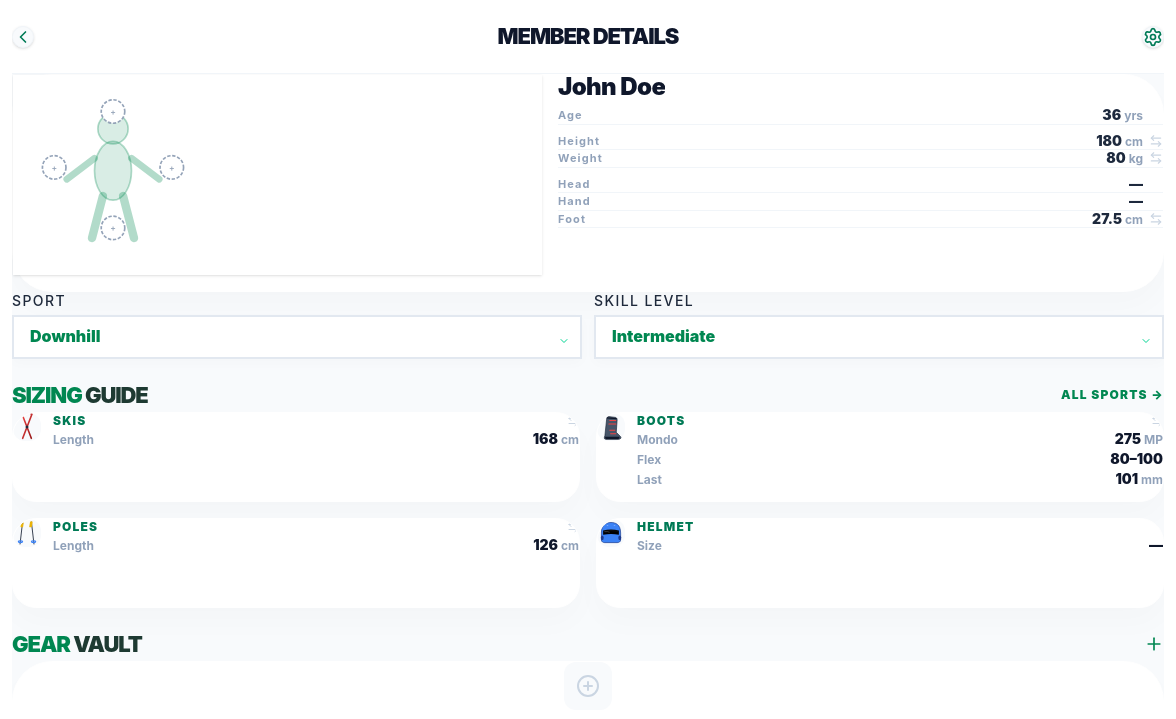
MemberDetail › unit toggles › toggles height back to cm on second click
Click the button with aria-label "toggle height units" at (1130, 141), box x1=1096 y1=134 x2=1163 y2=148
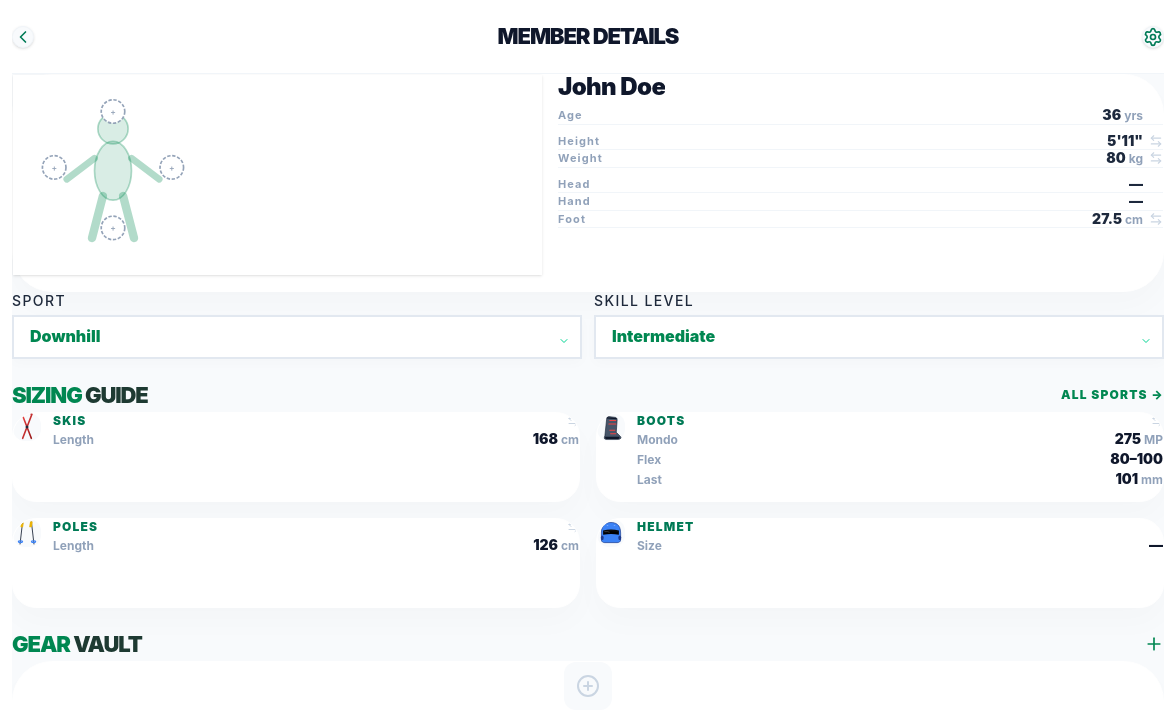
Click the button named "toggle height units" at (1135, 141), box x1=1107 y1=134 x2=1163 y2=148
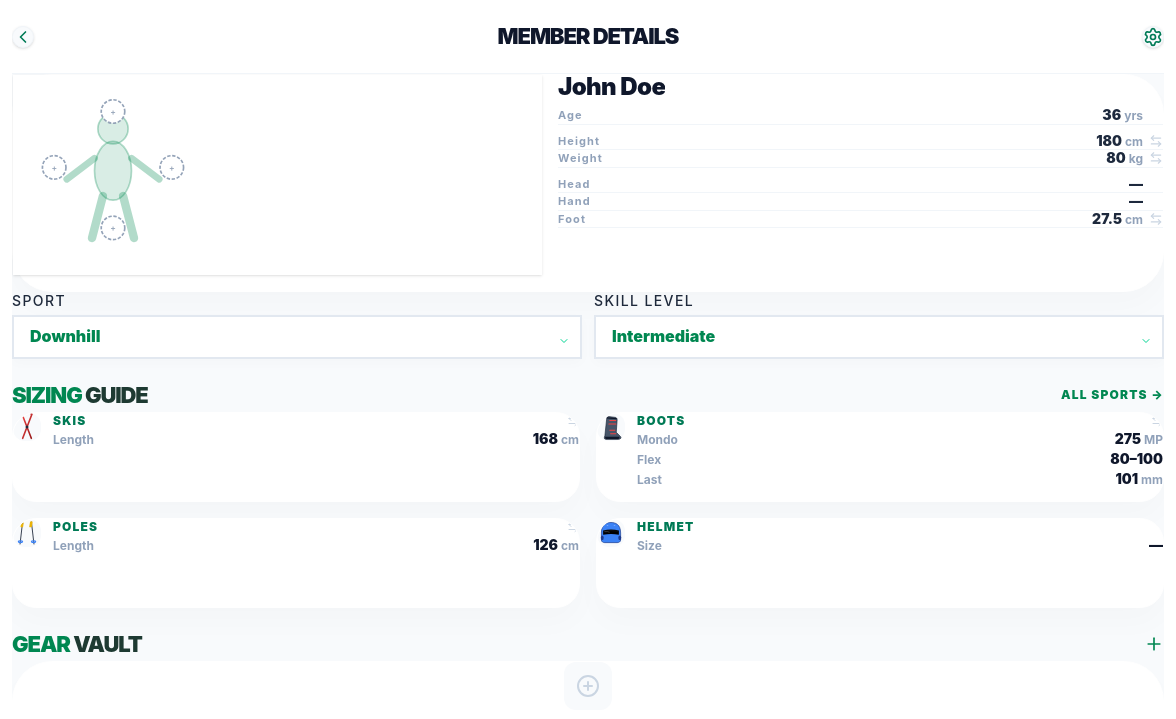
Result: the text "180" is shown at x1=1096 y1=134 x2=1122 y2=148
Result: the text "cm" in the row of "Height" is shown at x1=1125 y1=134 x2=1143 y2=149
